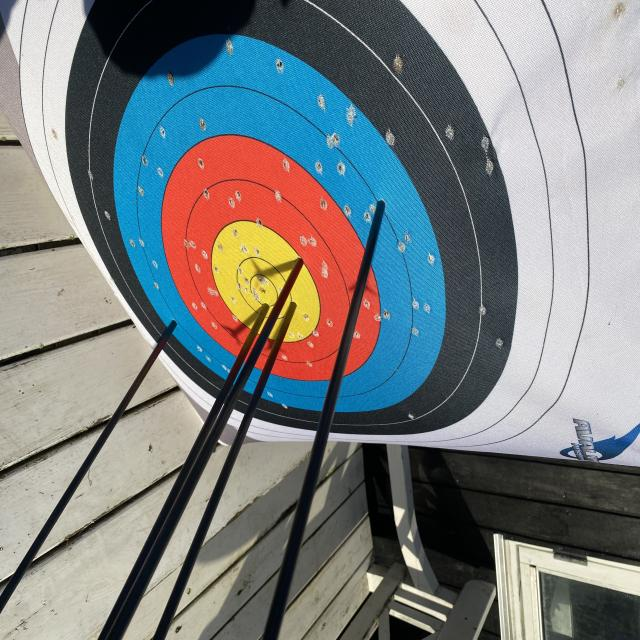Arrow_Blue: (369, 171, 401, 232), (168, 308, 188, 344)
Arrow_Yellow: (284, 293, 306, 329), (284, 249, 310, 277), (259, 293, 276, 324)
